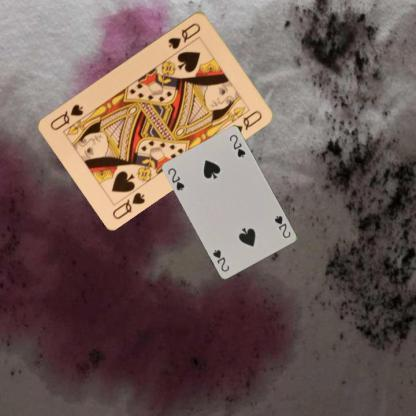2s: (165, 165, 186, 192), (272, 213, 292, 239)
Qs: (165, 20, 202, 50), (110, 190, 147, 220)
